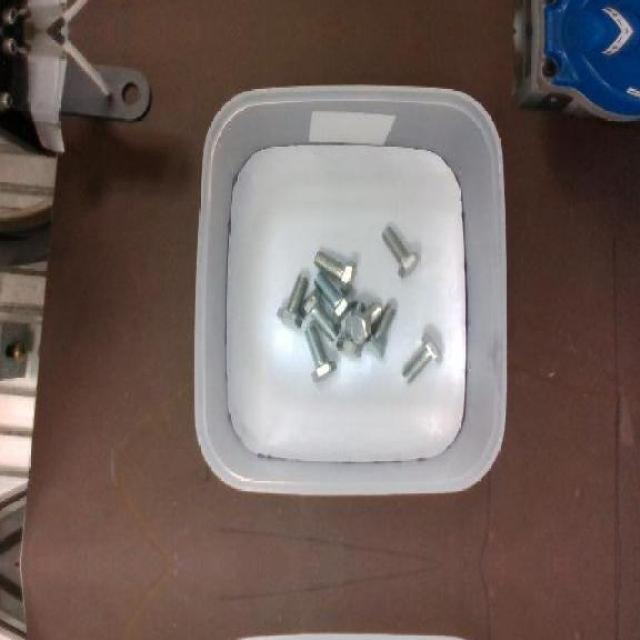screw: (314, 270, 354, 325), (400, 332, 442, 384), (299, 290, 339, 342), (381, 226, 420, 277), (313, 250, 357, 293), (304, 324, 336, 382), (277, 274, 309, 328), (346, 301, 381, 344)
